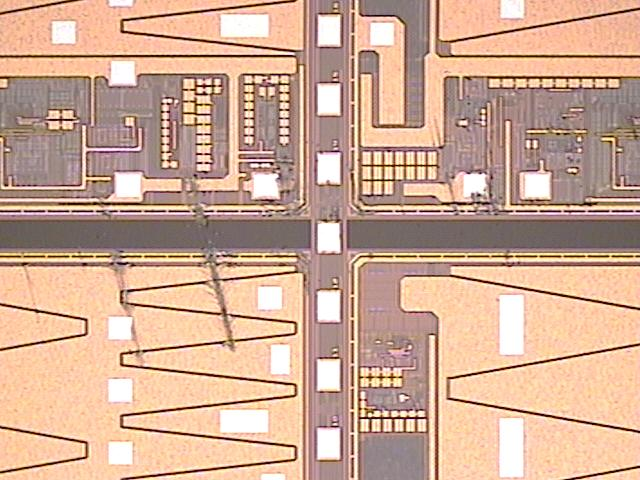SCRATCH: (15, 110, 524, 374)
